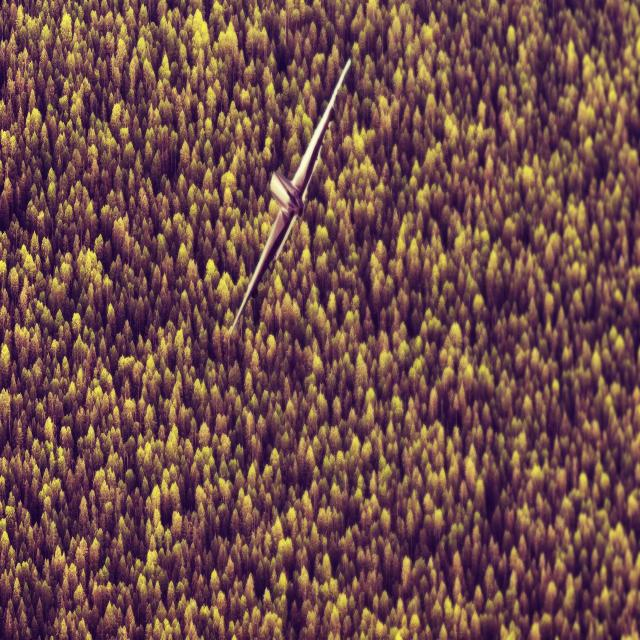airplane: (228, 57, 351, 337)
